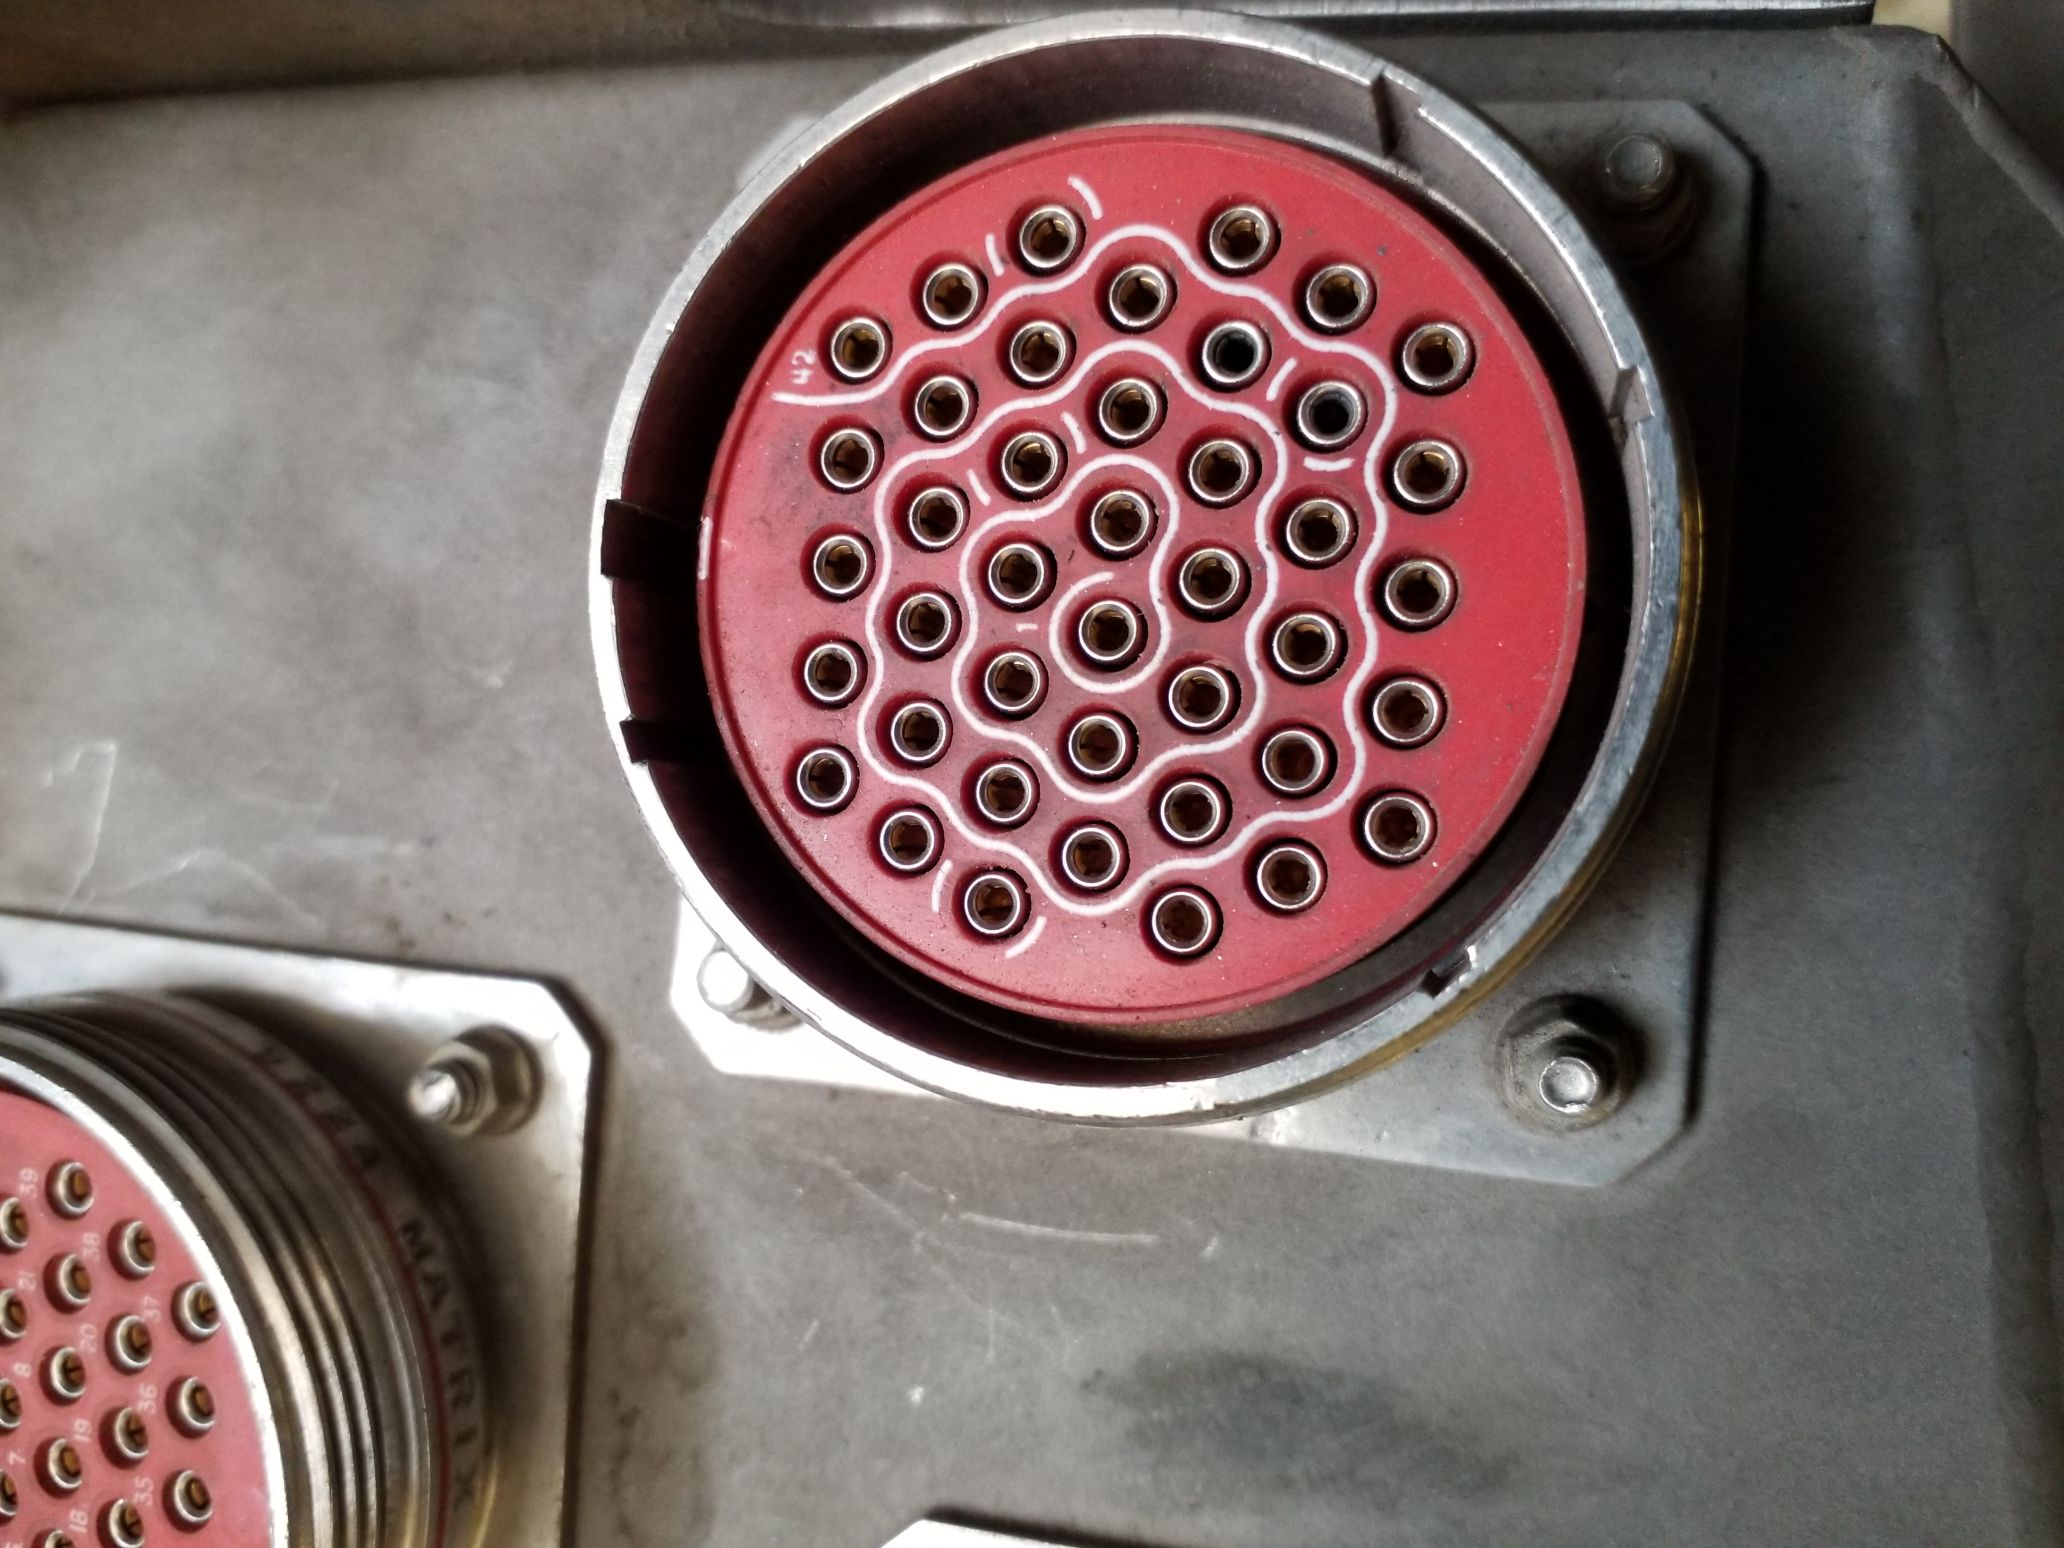inletround: (588, 16, 1708, 1141)
